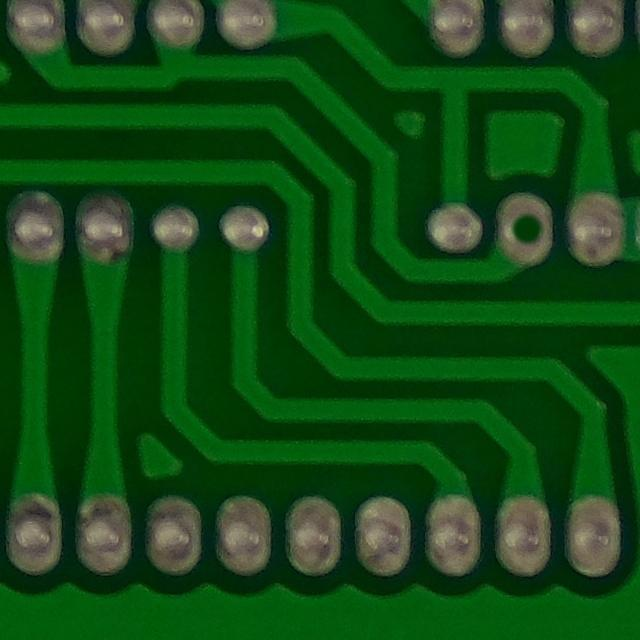missing_hole: (490, 186, 567, 273)
